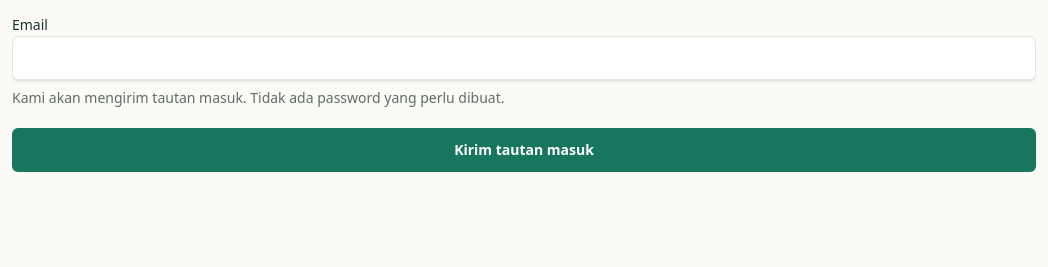
Test: SignInForm › mengirim email ternormalisasi dan menampilkan pesan aman saat gagal
Type "Budi@Example.COM" into the field labelled "Email" at (524, 58), box [12, 36, 1036, 80]
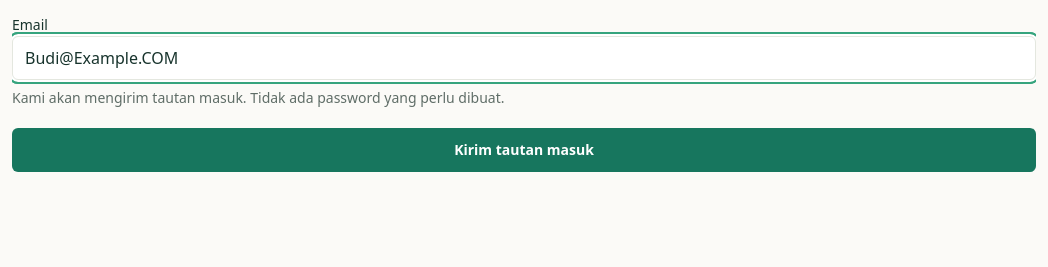
Click the button "Kirim tautan masuk" at (524, 150), box [12, 128, 1036, 172]
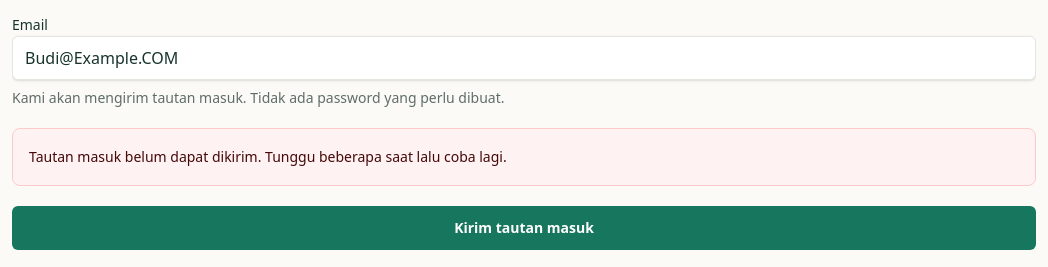
Now the message shows "Tautan masuk belum dapat dikirim", box [29, 147, 507, 166]
